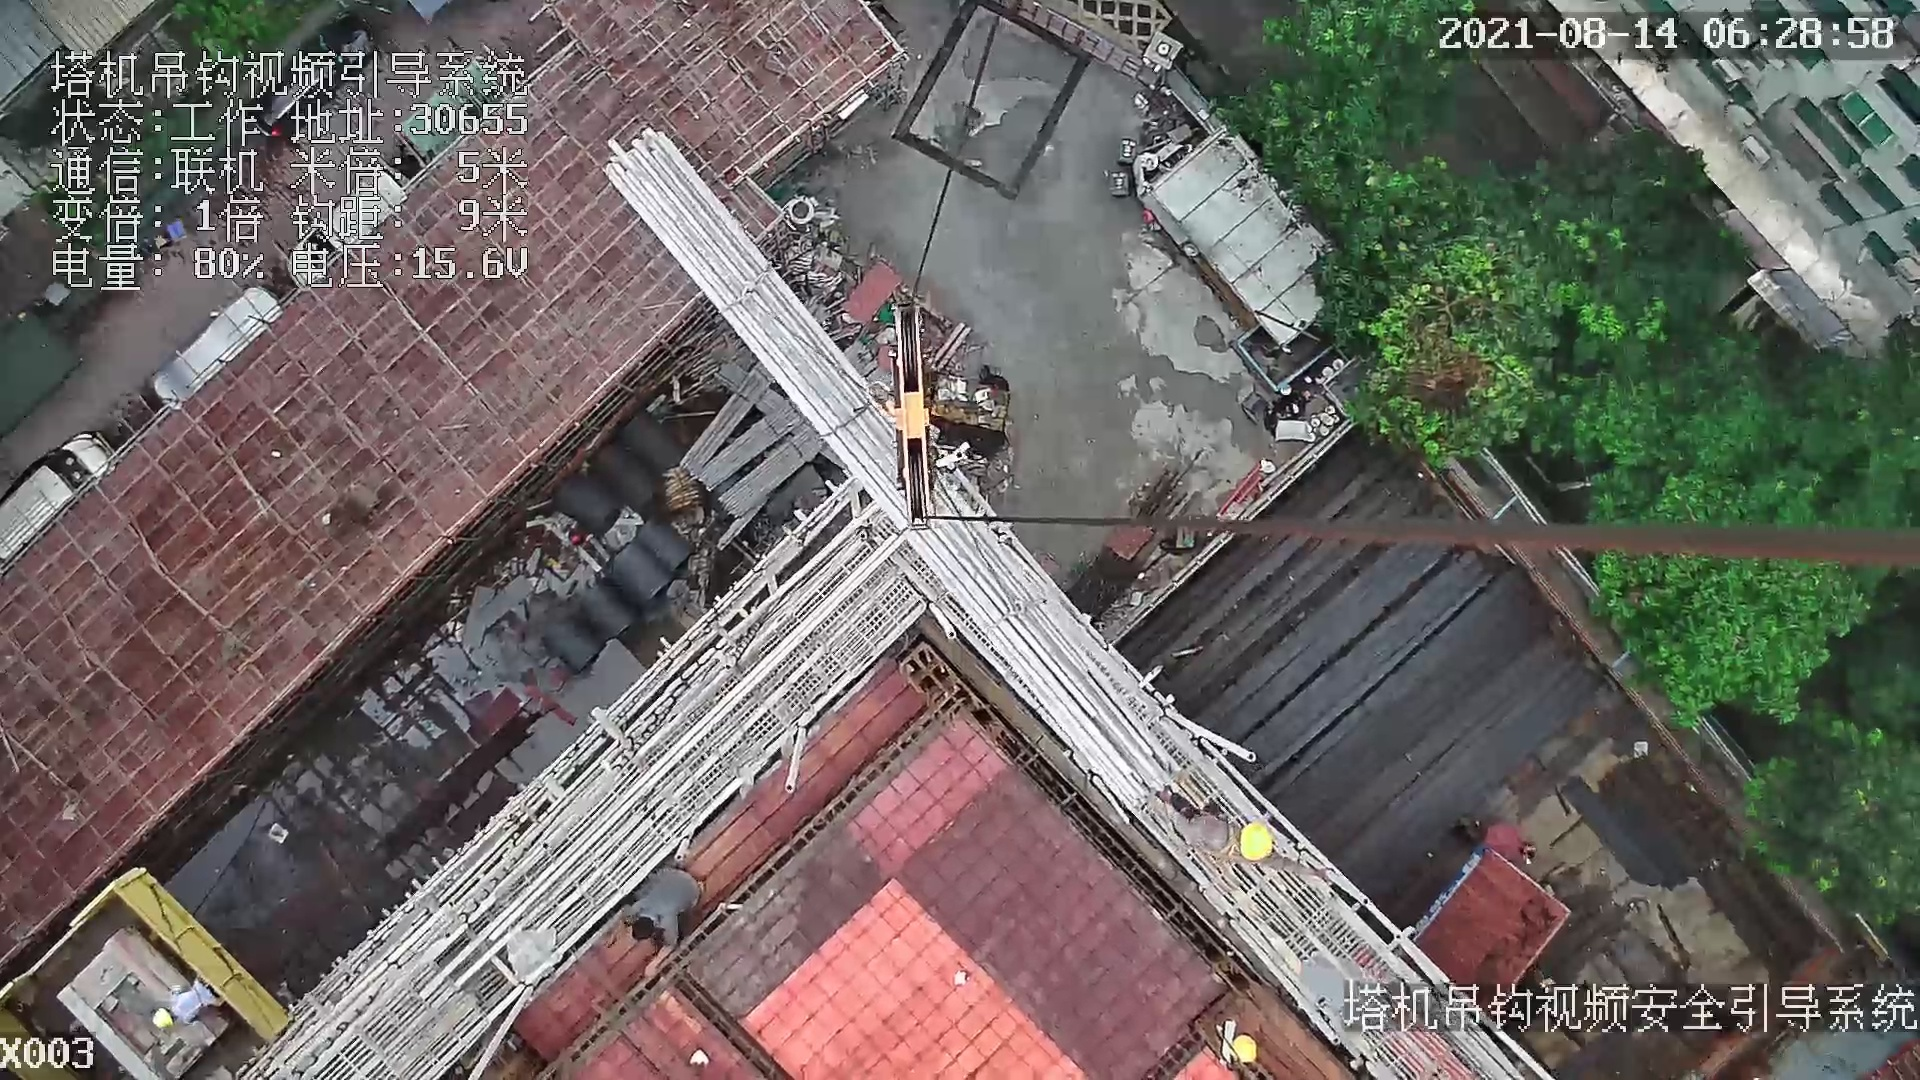helmet: (1242, 824, 1277, 872), (1231, 1035, 1262, 1067)
hook: (883, 299, 941, 530)
person: (1155, 780, 1335, 887)
rebar: (1174, 481, 1594, 853)
